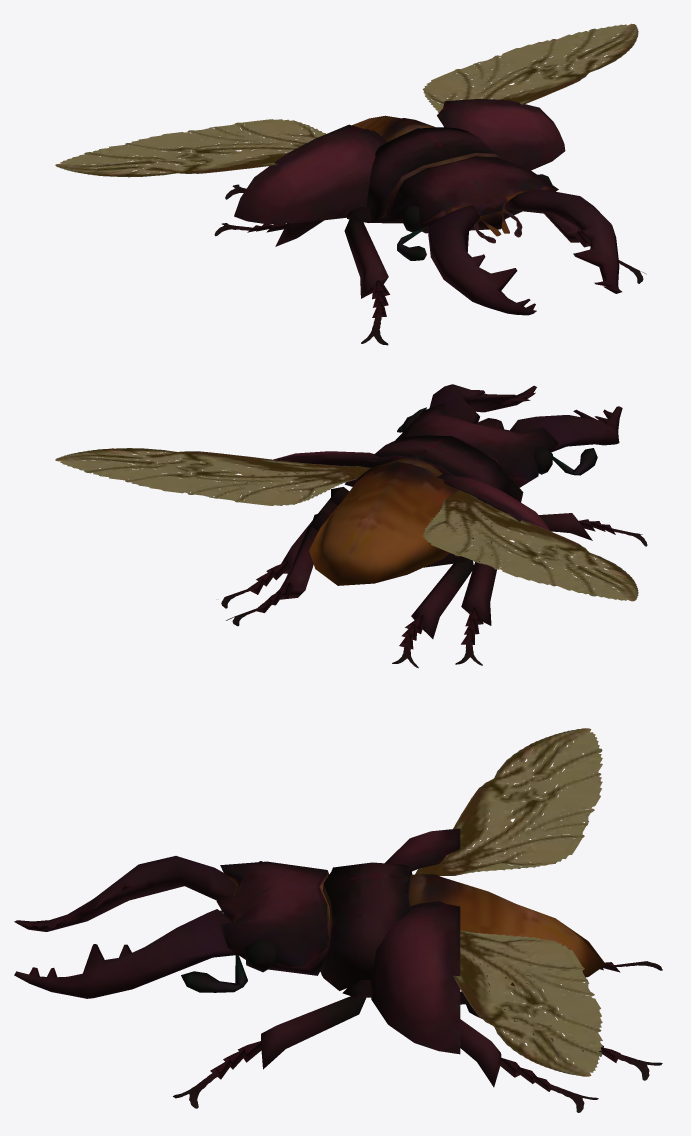
Rendered from saw-stag.glb.
3 renders of one model, top to bottom at view 1: azimuth 30°, elevation 25°; view 2: azimuth 150°, elevation 25°; view 3: azimuth 270°, elevation 25°, orthographic. The views are drawn at different scales.
Bounding box in the file's own units: 7.3 × 1.39 × 5.13.
Materials: 2 (2 with a texture image).
